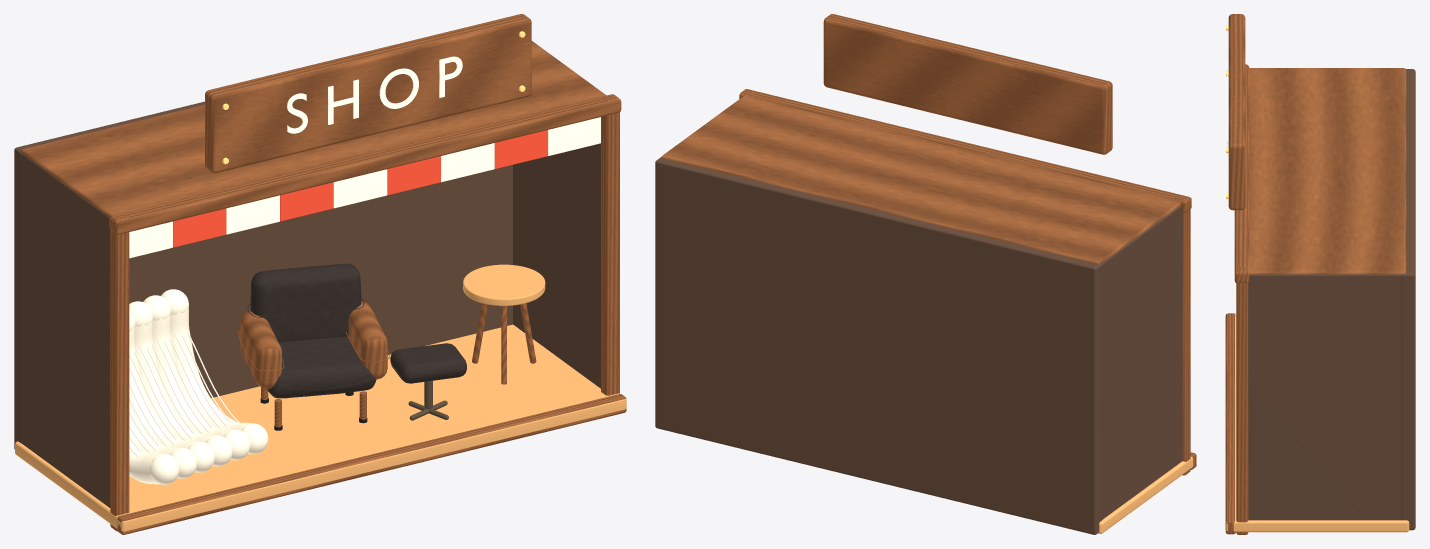
File: corner-shop.glb
3 views of the same model, side by side, from view 1: azimuth 30°, elevation 25°; view 2: azimuth 150°, elevation 25°; view 3: azimuth 270°, elevation 25° (orthographic). The views are drawn at different scales.
Visible parts, largest first — view 1: Alcove back; view 2: Alcove back; view 3: Alcove back.
Boxes of the visible parts, x1,y1,x2,y2 form: Alcove back: [14, 14, 626, 534]; Alcove back: [655, 14, 1196, 534]; Alcove back: [1225, 14, 1415, 534].
Size of the model in its own units: 1.64 by 1.29 by 0.631.
Materials: 10 (3 with a texture image).
